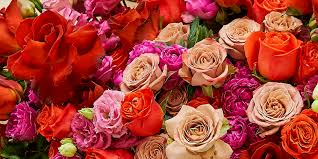lale: (5, 7, 111, 101), (168, 100, 231, 155), (242, 80, 308, 131), (250, 28, 309, 82), (110, 51, 175, 100), (179, 39, 235, 91), (216, 9, 271, 60), (88, 83, 136, 138), (117, 89, 164, 141), (32, 100, 86, 144), (257, 1, 315, 41), (282, 110, 318, 155)
